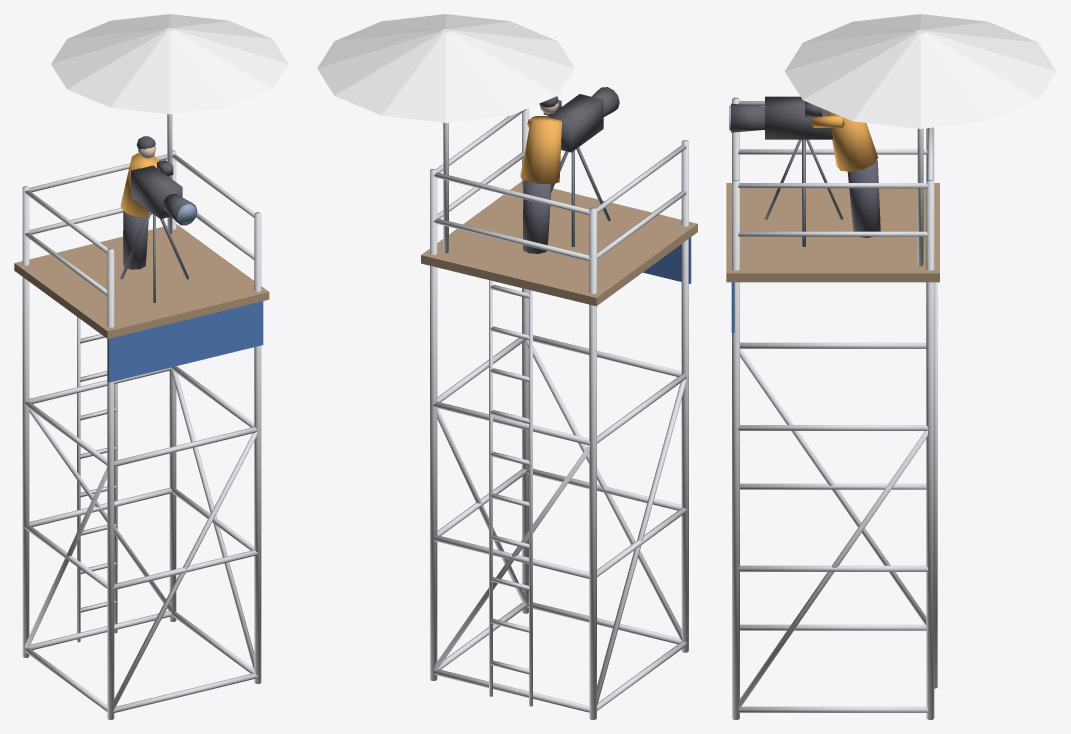
The model's file is tv_tower.glb.
The picture shows the model from 3 angles, left to right: view 1: azimuth 30°, elevation 25°; view 2: azimuth 150°, elevation 25°; view 3: azimuth 270°, elevation 25°; orthographic projection. The views are drawn at different scales.
Visible parts, largest first — view 1: tv_tower; view 2: tv_tower; view 3: tv_tower.
Boxes of the visible parts, <box> form: tv_tower: <box>14,14,288,719</box>; tv_tower: <box>317,14,697,719</box>; tv_tower: <box>726,14,1056,719</box>.
Bounding box in the file's own units: 3.4 × 7.75 × 3.4.
